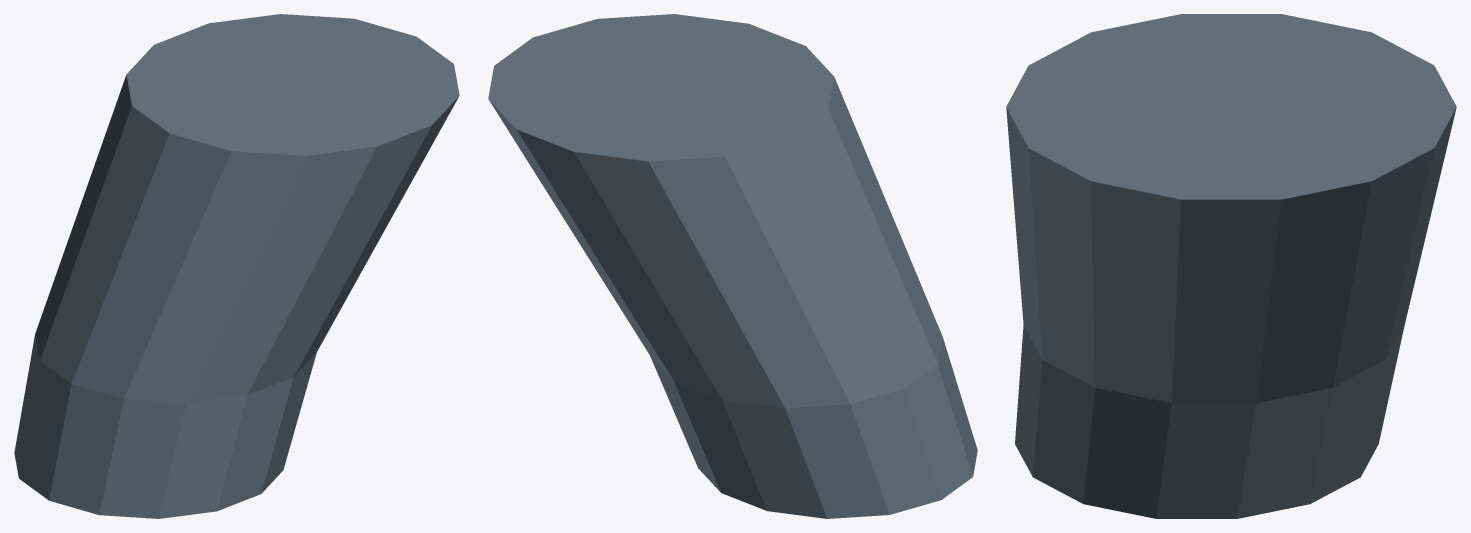
The model's file is SleeveLower_L.obj.
3 views of the same model, side by side, from view 1: azimuth 30°, elevation 25°; view 2: azimuth 150°, elevation 25°; view 3: azimuth 270°, elevation 25° (orthographic). The views are drawn at different scales.
Parts seen in each view (by area): view 1: SleeveLower_L; view 2: SleeveLower_L; view 3: SleeveLower_L.
Boxes of the visible parts, bbox=[...] form: SleeveLower_L: bbox=[14, 14, 459, 518]; SleeveLower_L: bbox=[488, 14, 977, 518]; SleeveLower_L: bbox=[1006, 14, 1456, 518].
Bounding box in the file's own units: 0.3691 × 0.28 × 0.26.
